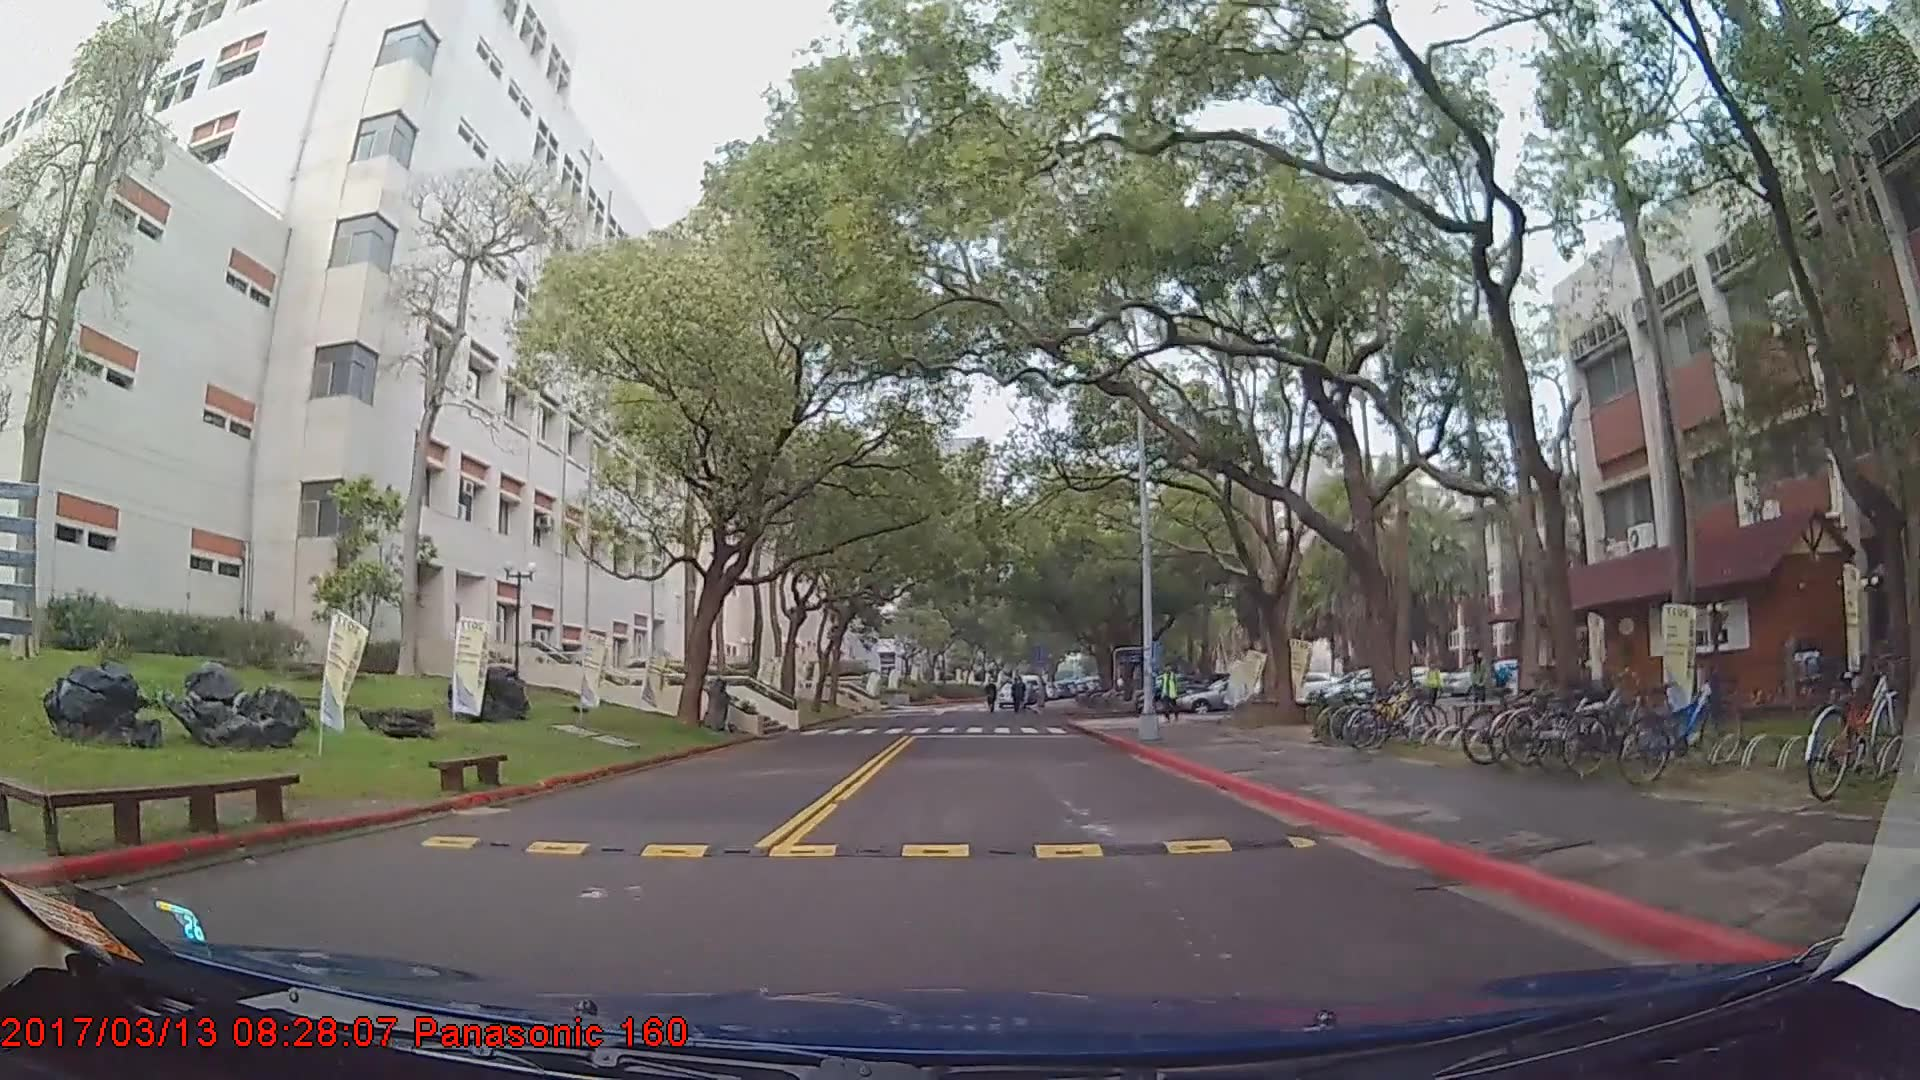vehicle: (1176, 674, 1273, 712)
